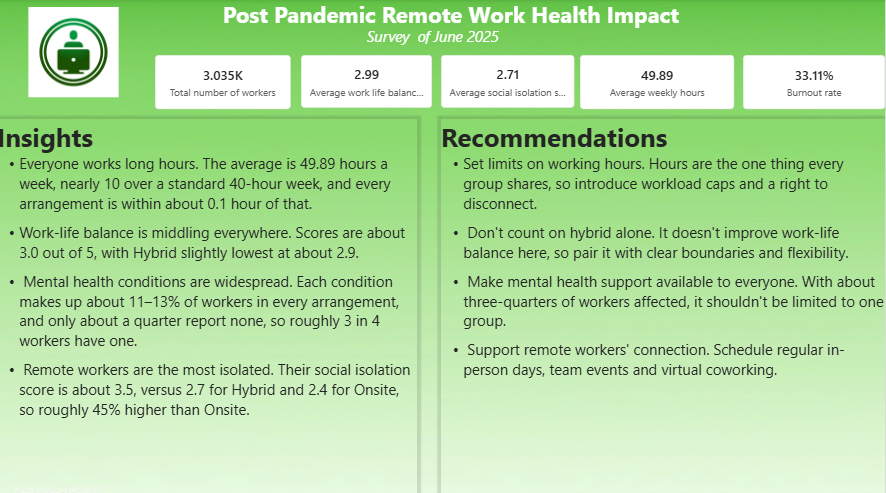

The page's visual inventory and layout, read from the dashboard file:
{"tool":"powerbi","page":{"name":"Insights and recommendation","canvas":[1920,1080],"ordinal":1},"visuals":[{"type":"image","box":[23.8,16.7,283.3,195.2],"z":0},{"type":"card","fields":{"Values":["post_pandemic_remote_work_health.Total number of workers"]},"box":[340.5,121.4,292.9,116.7],"z":1},{"type":"card","fields":{"Values":["post_pandemic_remote_work_health.Average work life balance score"]},"box":[657.1,121.4,283.3,113.9],"z":2},{"type":"card","fields":{"Values":["post_pandemic_remote_work_health.Average social isolation score"]},"box":[959.5,121.4,288.1,114.3],"z":3},{"type":"card","fields":{"Values":["post_pandemic_remote_work_health.Average weekly hours"]},"box":[1259.5,121.4,333.3,116.7],"z":4},{"type":"card","fields":{"Values":["post_pandemic_remote_work_health.Burnout rate"]},"box":[1611.9,121.4,307.1,116.7],"z":5},{"type":"textbox","box":[487.5,0,1432.5,115],"z":6},{"type":"textbox","box":[0,260,907.5,820],"z":7},{"type":"textbox","box":[960,260,957.5,820],"z":8},{"type":"textbox","box":[800,57.5,837.5,57.5],"z":9}]}

Visuals, with their boxes in screenshot pixels (x1, y1, x2, y2), scaled from the page's 1920x1080 canvas onto the 886x493 screenshot:
image: pyautogui.locateOnScreen(11, 8, 142, 97)
card - post_pandemic_remote_work_health.Total number of workers: pyautogui.locateOnScreen(157, 55, 292, 109)
card - post_pandemic_remote_work_health.Average work life balance score: pyautogui.locateOnScreen(303, 55, 434, 107)
card - post_pandemic_remote_work_health.Average social isolation score: pyautogui.locateOnScreen(443, 55, 576, 108)
card - post_pandemic_remote_work_health.Average weekly hours: pyautogui.locateOnScreen(581, 55, 735, 109)
card - post_pandemic_remote_work_health.Burnout rate: pyautogui.locateOnScreen(744, 55, 885, 109)
textbox: pyautogui.locateOnScreen(225, 0, 885, 52)
textbox: pyautogui.locateOnScreen(0, 119, 419, 492)
textbox: pyautogui.locateOnScreen(443, 119, 885, 492)
textbox: pyautogui.locateOnScreen(369, 26, 756, 52)
